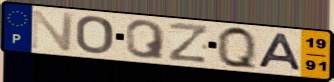A: (254, 32, 304, 73)
N: (28, 9, 77, 52)
O: (74, 15, 116, 55)
Q: (215, 25, 260, 73), (124, 19, 168, 61)
Z: (167, 21, 210, 64)
